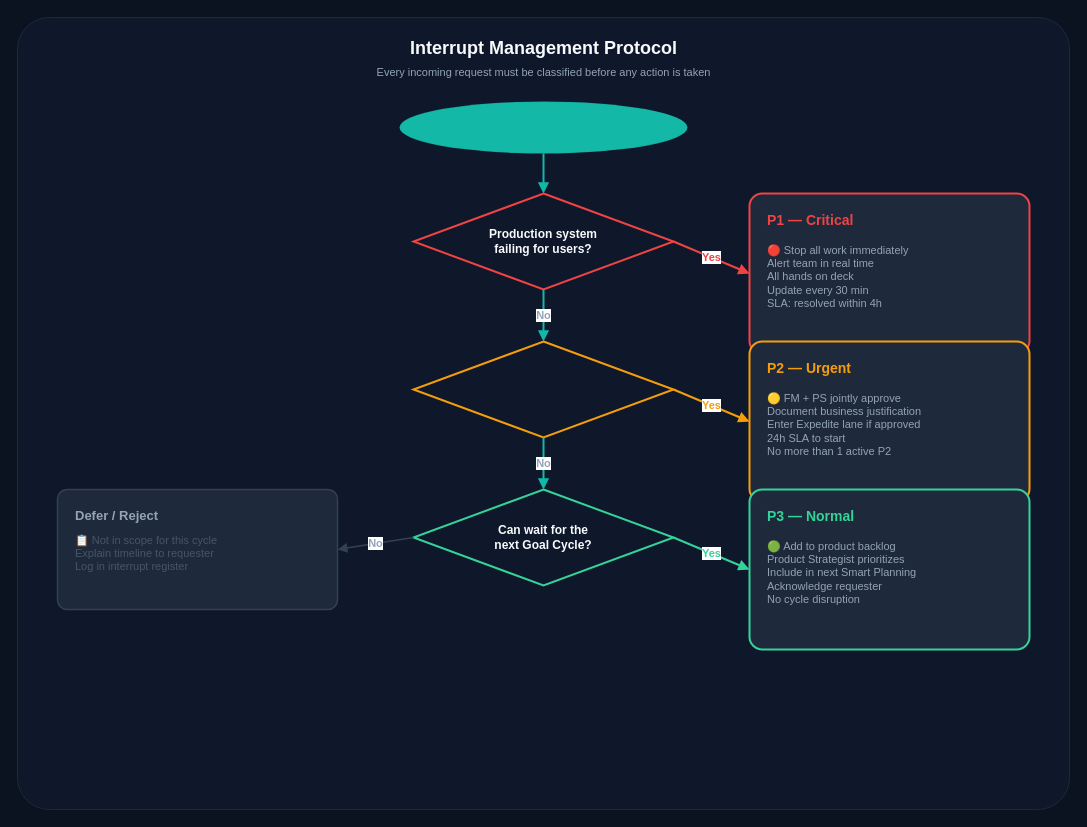
Image size: 1087x827. Some labels were removed from this diagram. The centre of each missing label's shape, as x and y in pixels:
"Documented business impact if not resolved within 1–5 days?" belongs at point 543,389.
"Interrupt Arrives" belongs at point 543,127.
